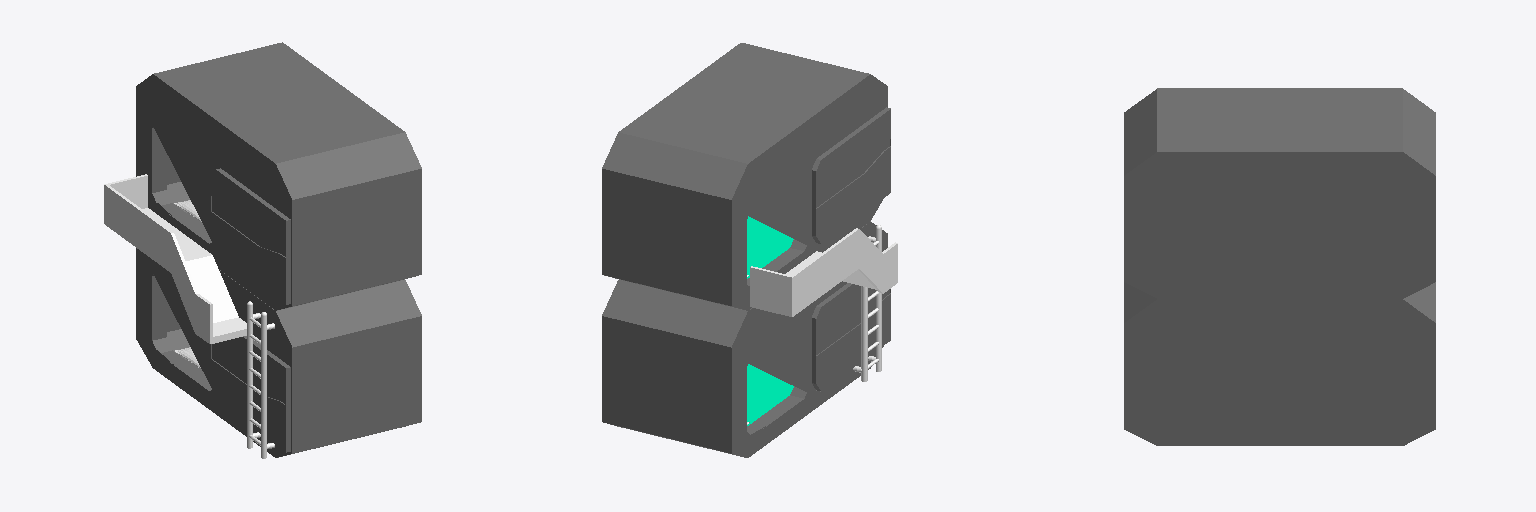
Rendered from Capsula_Doble_Abierta.obj.
3 views of the same model, side by side, from view 1: azimuth 30°, elevation 25°; view 2: azimuth 150°, elevation 25°; view 3: azimuth 270°, elevation 25° (orthographic).
Parts seen in each view (by area): view 1: Capsula_Doble_Abierta Capsula_Doble_Abierta Capsula5 Capsula_Ind, Capsula5 Capsula_Individual_Abierta Capsula_Individual_Abierta2 , Capsula_Doble_Abierta Capsula_Doble_Abierta Capsula_Individual_A, Capsula_Individual_Abierta Capsula_Individual_Abierta2 Capsula_D, initialShadingGroup Capsula_Doble_Abierta pCube29, initialShadingGroup Capsula_Doble_Abierta pCube28, initialShadingGroup Capsula_Doble_Abierta pCube30, initialShadingGroup Capsula_Doble_Abierta pCylinder3, initialShadingGroup Capsula_Doble_Abierta pCylinder4; view 2: Capsula_Doble_Abierta Capsula_Doble_Abierta Capsula5 Capsula_Ind, Capsula5 Capsula_Individual_Abierta Capsula_Individual_Abierta2 , Capsula_Doble_Abierta Capsula_Doble_Abierta Capsula_Individual_A, Capsula_Individual_Abierta Capsula_Individual_Abierta2 Capsula_D, initialShadingGroup Capsula_Doble_Abierta pCube29, initialShadingGroup Capsula_Doble_Abierta pCube30, initialShadingGroup Capsula_Doble_Abierta pCylinder4, initialShadingGroup Capsula_Doble_Abierta pCylinder3; view 3: Capsula_Doble_Abierta Capsula_Doble_Abierta Capsula5 Capsula_Ind, Capsula5 Capsula_Individual_Abierta Capsula_Individual_Abierta2 .
Part boxes in pixels (x1,y1,x2,y2): Capsula_Doble_Abierta Capsula_Doble_Abierta Capsula5 Capsula_Ind: (136, 42, 421, 310); Capsula5 Capsula_Individual_Abierta Capsula_Individual_Abierta2 : (136, 248, 421, 457); Capsula_Doble_Abierta Capsula_Doble_Abierta Capsula_Individual_A: (151, 127, 290, 304); Capsula_Individual_Abierta Capsula_Individual_Abierta2 Capsula_D: (151, 274, 290, 452); initialShadingGroup Capsula_Doble_Abierta pCube29: (106, 185, 212, 343); initialShadingGroup Capsula_Doble_Abierta pCube28: (142, 208, 246, 343); initialShadingGroup Capsula_Doble_Abierta pCube30: (104, 174, 147, 224); initialShadingGroup Capsula_Doble_Abierta pCylinder3: (261, 315, 266, 458); initialShadingGroup Capsula_Doble_Abierta pCylinder4: (247, 305, 252, 448); Capsula_Doble_Abierta Capsula_Doble_Abierta Capsula5 Capsula_Ind: (602, 43, 887, 310); Capsula5 Capsula_Individual_Abierta Capsula_Individual_Abierta2 : (602, 221, 887, 457); Capsula_Doble_Abierta Capsula_Doble_Abierta Capsula_Individual_A: (746, 107, 890, 288); Capsula_Individual_Abierta Capsula_Individual_Abierta2 Capsula_D: (746, 283, 890, 435); initialShadingGroup Capsula_Doble_Abierta pCube29: (791, 228, 897, 315); initialShadingGroup Capsula_Doble_Abierta pCube30: (750, 266, 793, 316); initialShadingGroup Capsula_Doble_Abierta pCylinder4: (861, 286, 867, 381); initialShadingGroup Capsula_Doble_Abierta pCylinder3: (876, 228, 881, 371); Capsula_Doble_Abierta Capsula_Doble_Abierta Capsula5 Capsula_Ind: (1124, 88, 1435, 298); Capsula5 Capsula_Individual_Abierta Capsula_Individual_Abierta2 : (1124, 282, 1435, 445).
Bounding box in the file's own units: 1.65 × 2.63 × 2.52.